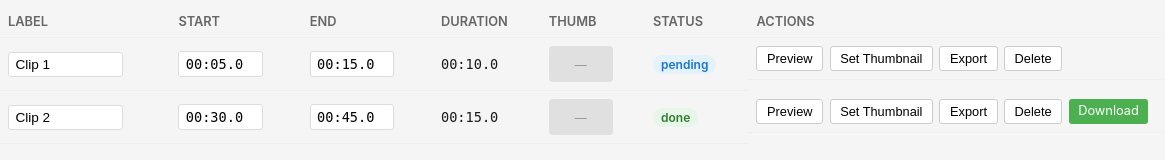
ClipList › reverts invalid start time on blur
Replace the text in the 2nd field showing "00:05.0" with "invalid" at x=221, y=64, box [178, 51, 263, 77]
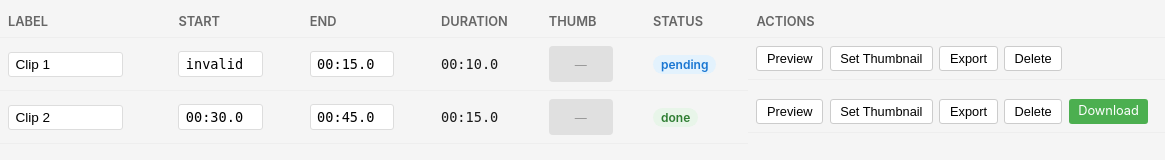
Leave the 2nd field showing "00:05.0", box [178, 51, 263, 77]
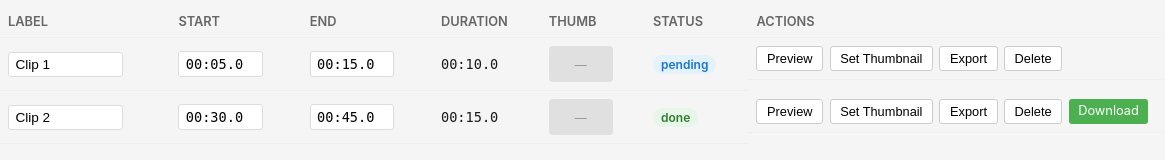
expect the 2nd field showing "00:05.0" holds "00:05.0": met, box [178, 51, 263, 77]
